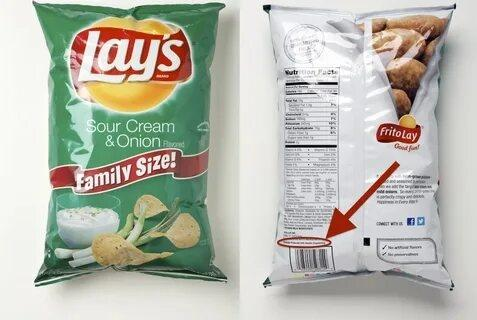snack: (32, 1, 227, 289)
